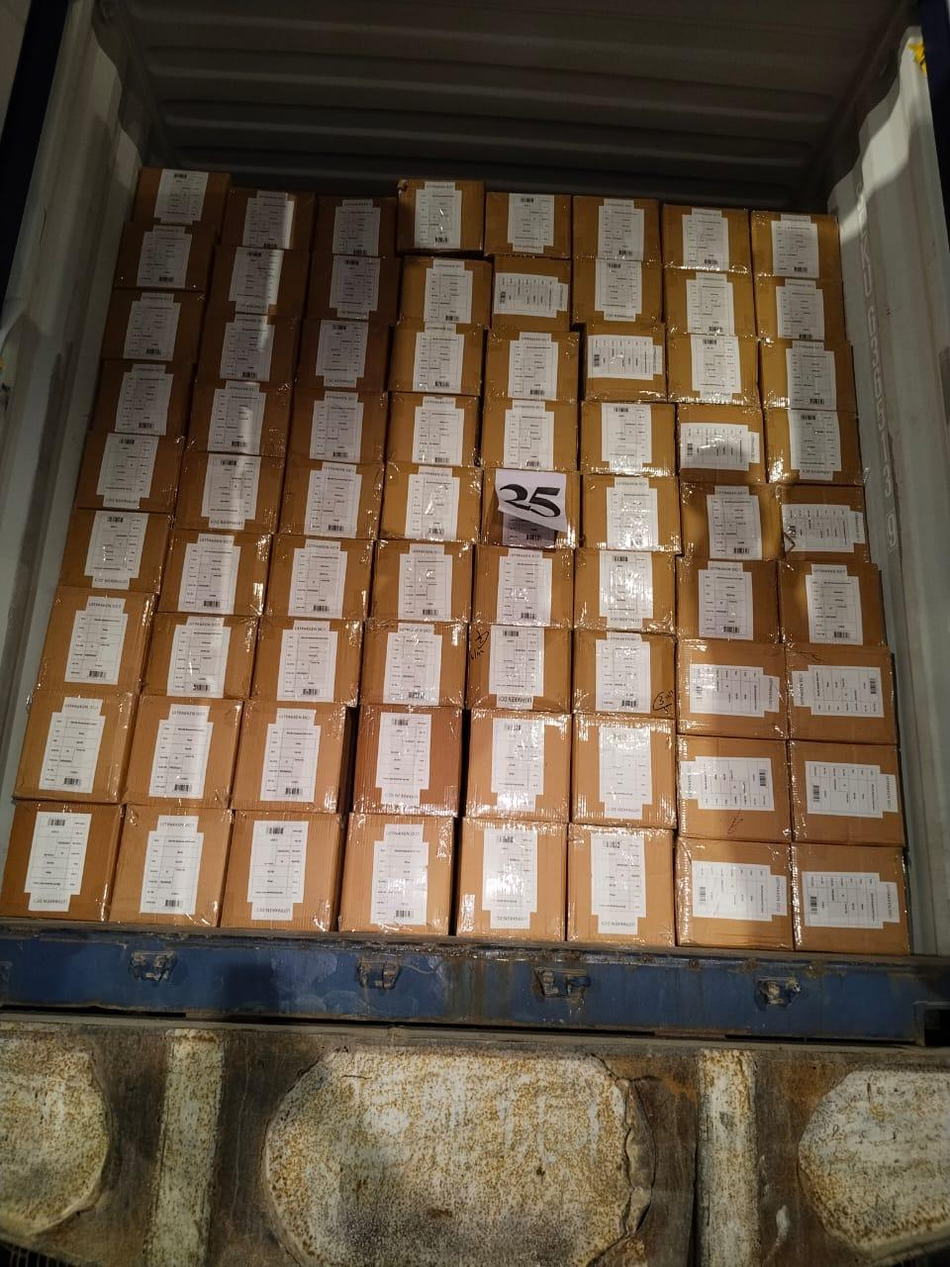carton: (109, 805, 232, 926), (0, 802, 122, 922), (221, 811, 343, 931), (14, 687, 136, 804), (338, 814, 454, 935), (456, 818, 567, 941), (232, 700, 350, 814), (566, 824, 675, 947), (124, 696, 242, 809), (676, 836, 793, 949), (791, 843, 909, 955), (37, 587, 154, 693), (465, 709, 572, 824), (353, 704, 462, 816), (571, 713, 677, 828), (677, 735, 792, 841), (789, 740, 904, 845), (677, 639, 788, 738), (786, 646, 897, 744), (143, 613, 257, 700), (252, 617, 362, 707), (158, 529, 271, 616), (359, 620, 468, 708), (59, 510, 171, 594), (466, 624, 572, 712), (266, 534, 373, 621), (573, 629, 675, 719), (778, 561, 886, 646), (175, 450, 284, 534), (72, 433, 186, 512), (676, 558, 780, 642), (574, 549, 676, 634), (371, 539, 473, 623), (473, 545, 574, 629), (280, 458, 383, 540), (380, 462, 482, 542), (90, 360, 193, 439), (481, 467, 580, 549), (679, 482, 783, 560), (187, 380, 292, 457), (197, 311, 303, 385), (582, 474, 681, 553), (101, 289, 205, 364), (208, 245, 310, 320), (384, 321, 485, 396), (765, 408, 863, 485), (289, 389, 389, 464), (579, 401, 677, 476), (776, 484, 870, 562), (760, 340, 857, 415), (480, 398, 578, 471), (677, 404, 766, 484), (297, 317, 390, 393), (114, 222, 215, 291), (386, 393, 480, 467), (307, 252, 401, 325), (667, 334, 759, 408), (583, 322, 667, 403), (398, 256, 493, 327), (484, 331, 580, 401), (397, 179, 485, 254), (663, 268, 757, 338), (131, 167, 231, 231), (662, 204, 752, 274), (491, 255, 572, 332), (572, 258, 663, 326), (755, 276, 846, 343), (572, 196, 662, 263), (751, 211, 841, 278), (222, 187, 316, 251), (484, 192, 572, 259), (314, 195, 396, 256)
